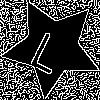L: (27, 22, 72, 75)
